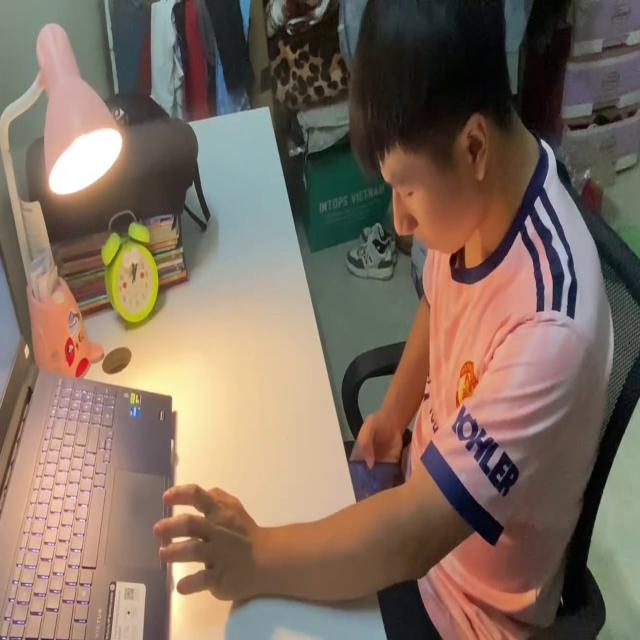laptop: (0, 242, 174, 640)
student: (153, 1, 613, 640)
